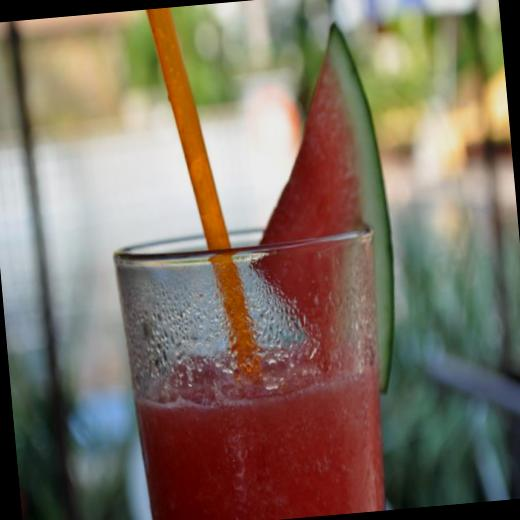Cherry: (227, 18, 405, 405)
